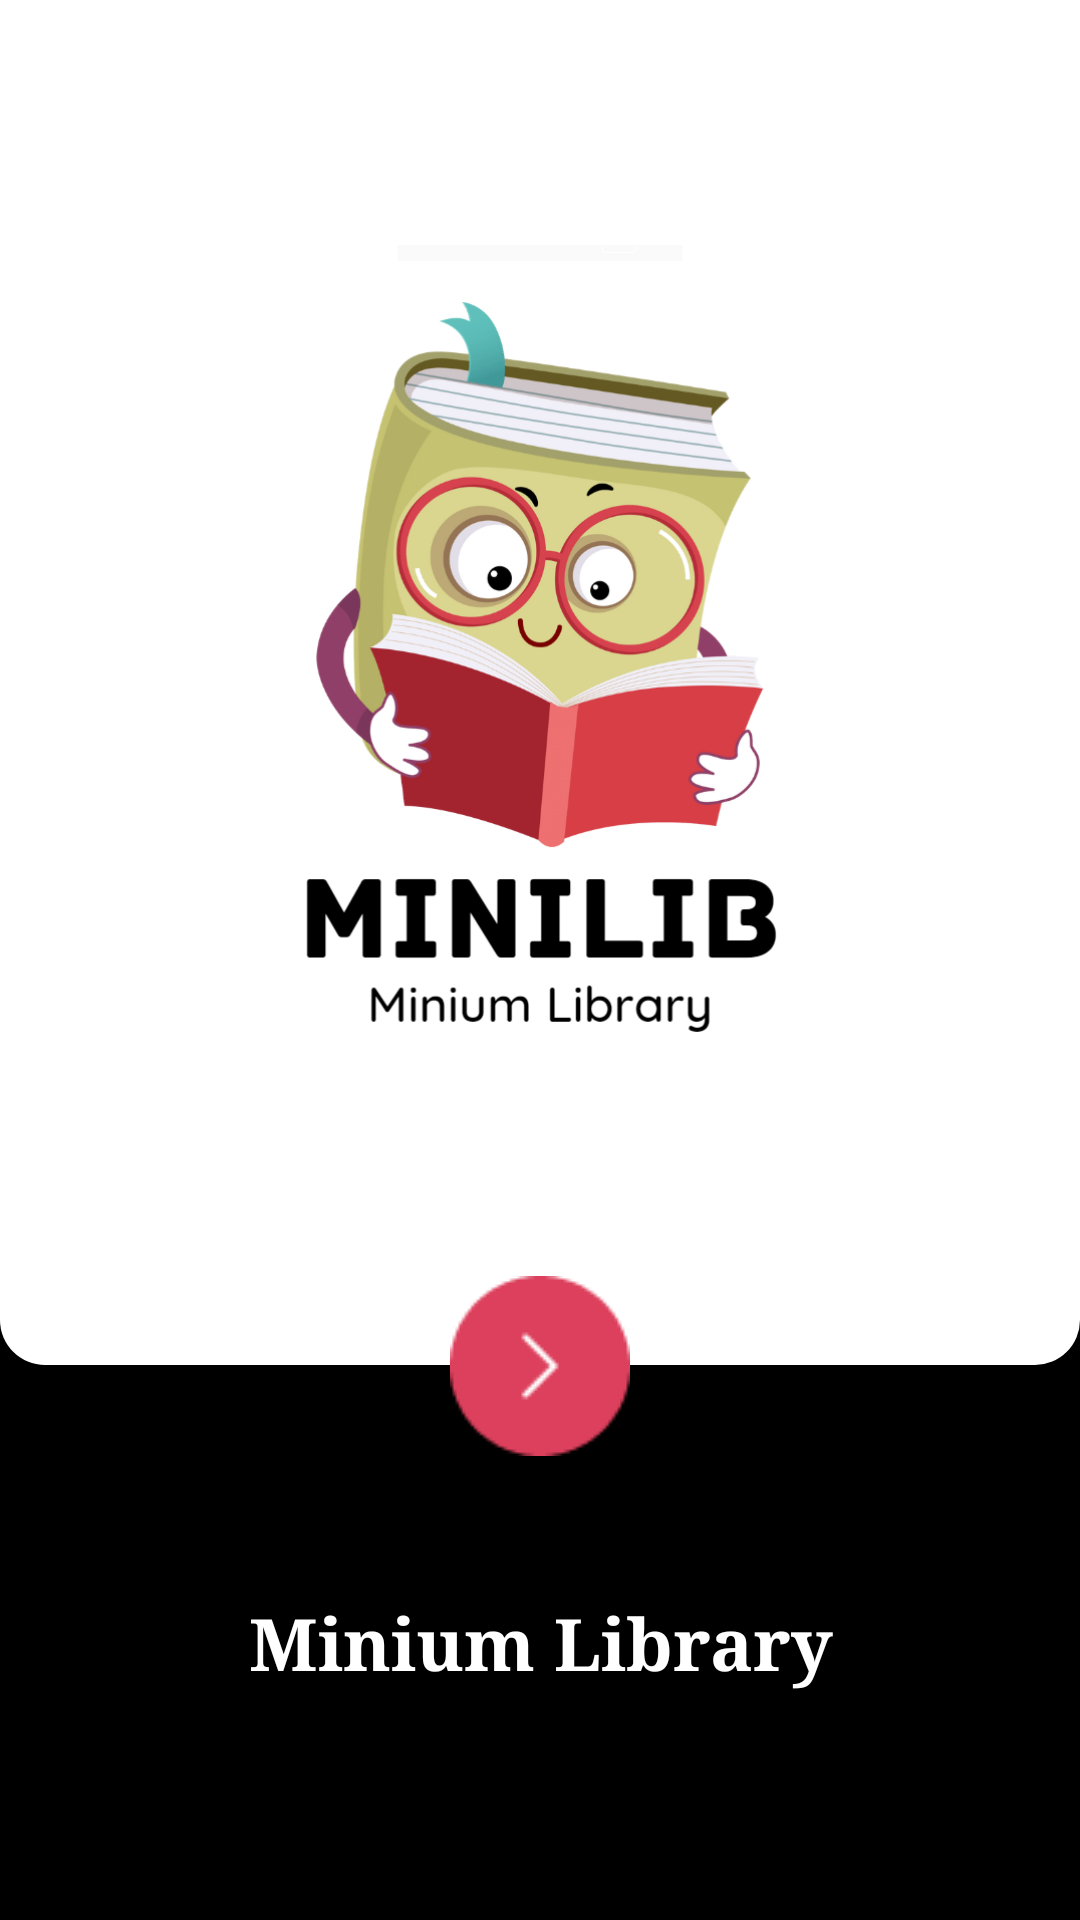

Screen size 1080x1920. Icon name, then its center in pixels as point (x, y):
loading next: point (540, 1366)
